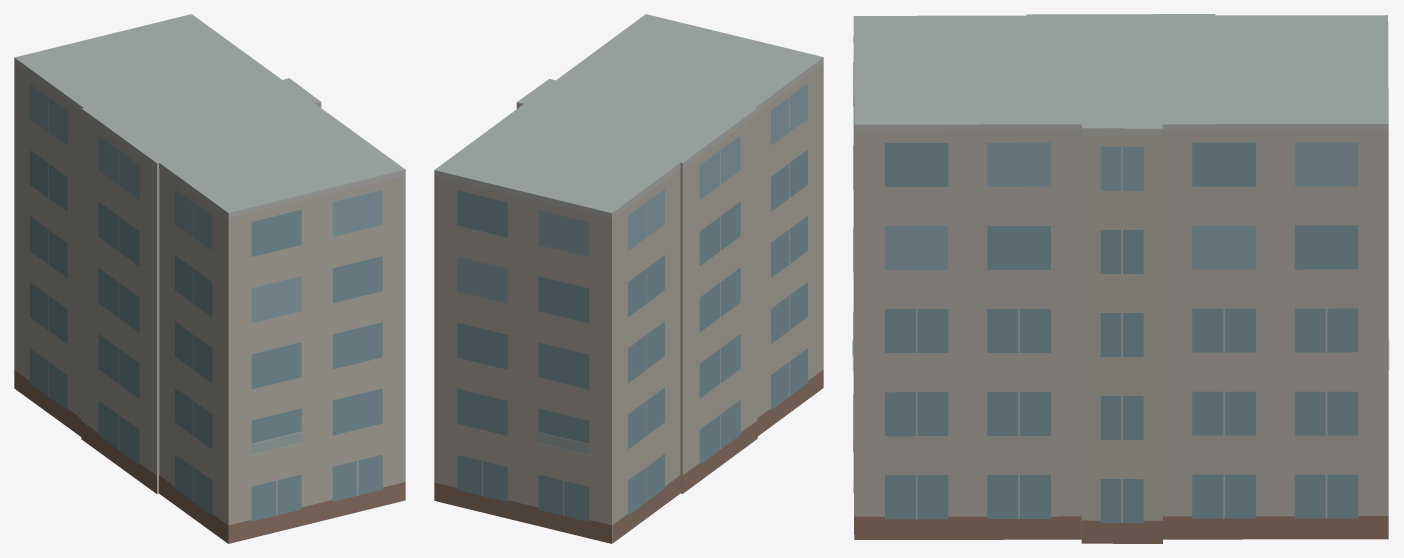
Rendered from survey-upis-32984939.glb.
The picture shows the model from 3 angles, left to right: view 1: azimuth 30°, elevation 25°; view 2: azimuth 150°, elevation 25°; view 3: azimuth 270°, elevation 25°; orthographic projection. The views are drawn at different scales.
Parts seen in each view (by area): view 1: survey-upis-32984939.tmp; view 2: survey-upis-32984939.tmp; view 3: survey-upis-32984939.tmp.
Part boxes in pixels (x1,y1,x2,y2): survey-upis-32984939.tmp: (14,14,405,543); survey-upis-32984939.tmp: (434,14,823,543); survey-upis-32984939.tmp: (852,14,1389,543).
Bounding box in the file's own units: 8.59 × 14.5 × 17.
